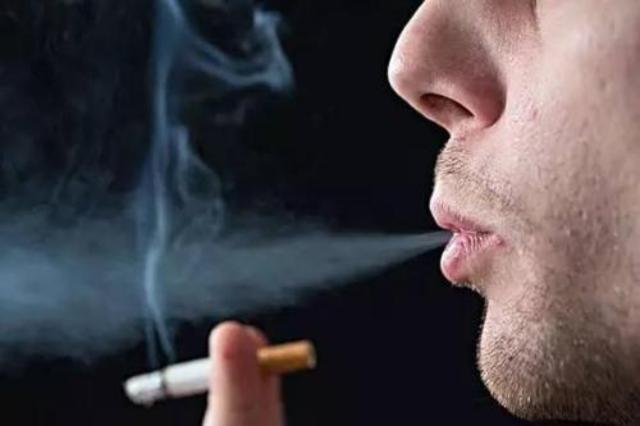Smoking: (120, 338, 320, 404)
